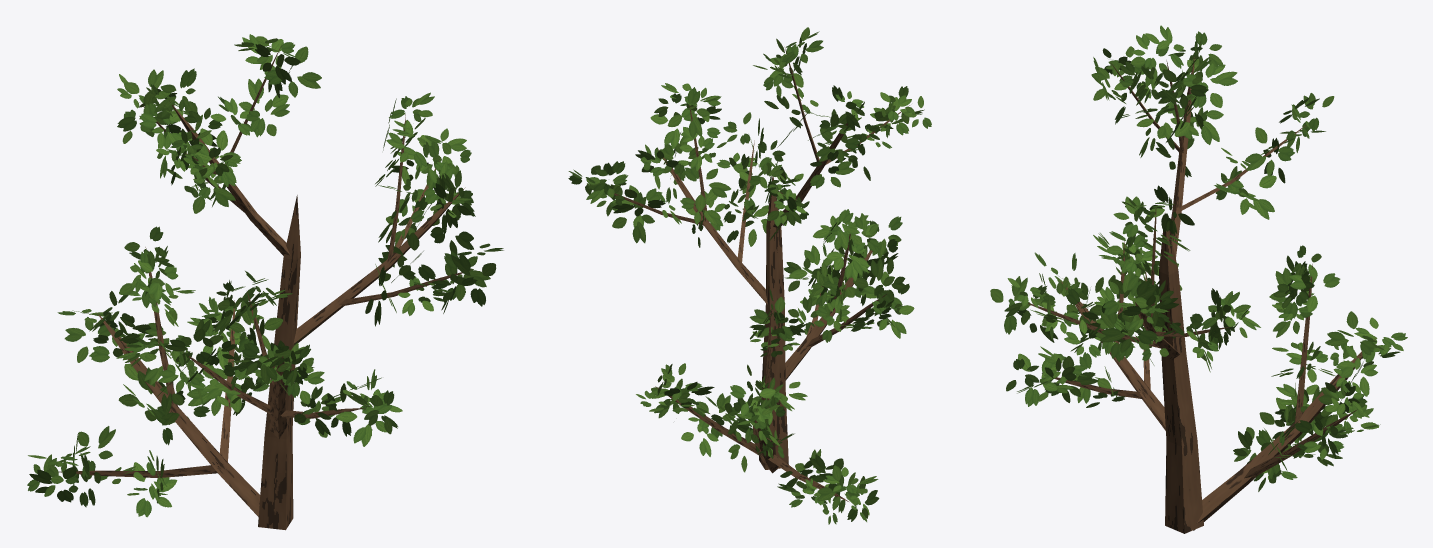
File: fern-bush.obj
3 views of the same model, side by side, from view 1: azimuth 30°, elevation 25°; view 2: azimuth 150°, elevation 25°; view 3: azimuth 270°, elevation 25° (orthographic). The views are drawn at different scales.
Size of the model in its own units: 2.63 by 3.06 by 2.51.
2 materials, 2 textured.
